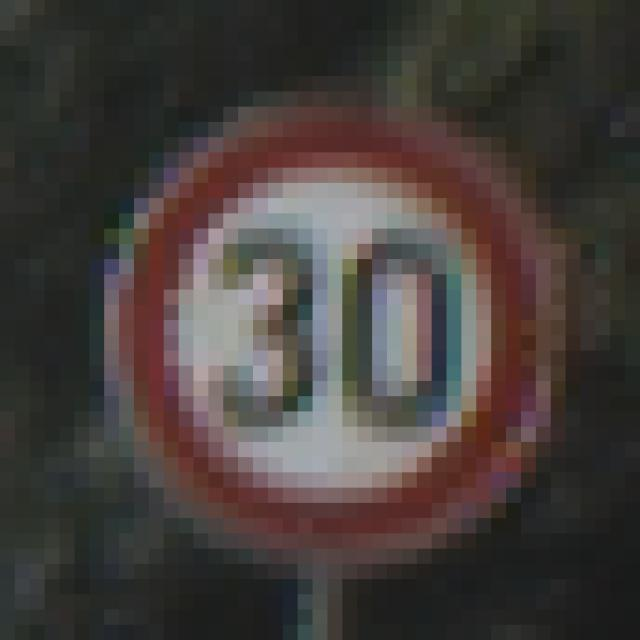Speed Limit -30-: (66, 69, 544, 556)
